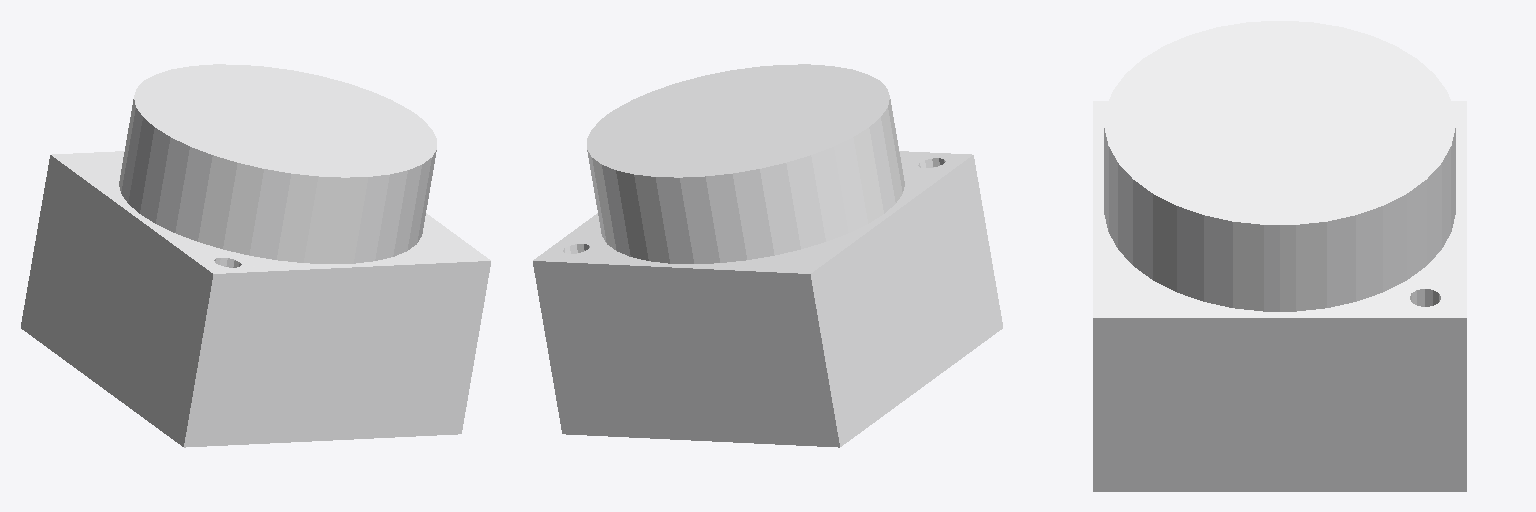
robot.urdf — roomba_final1:
<?xml version="1.0" encoding="utf-8"?>
<!-- This URDF was automatically created by SolidWorks to URDF Exporter! Originally created by [author] ([email redacted]) 
     Commit Version: 1.6.0-4-g7f85cfe  Build Version: 1.6.7995.38578
     For more information, please see http://wiki.ros.org/sw_urdf_exporter -->
<robot
  name="roomba_final1">
  <link
    name="base_link">
    <inertial>
      <origin
        xyz="0.00218120542640235 0.000338633491901637 0.109079961647412"
        rpy="0 0 0" />
      <mass
        value="0.556734338068349" />
      <inertia
        ixx="0.0036150957492384"
        ixy="9.51918549642332E-06"
        ixz="0.000373469425941911"
        iyy="0.00209869293547968"
        iyz="-2.14075951798952E-06"
        izz="0.00538227582872374" />
    </inertial>
    <visual>
      <origin
        xyz="0 0 0"
        rpy="0 0 0" />
      <geometry>
        <mesh
          filename="package://roomba_final1/meshes/base_link.STL" />
      </geometry>
      <material
        name="">
        <color
          rgba="0.792156862745098 0.819607843137255 0.933333333333333 1" />
      </material>
    </visual>
    <collision>
      <origin
        xyz="0 0 0"
        rpy="0 0 0" />
      <geometry>
        <mesh
          filename="package://roomba_final1/meshes/base_link.STL" />
      </geometry>
    </collision>
  </link>
  <link
    name="Rueda_izquierda_link">
    <inertial>
      <origin
        xyz="0 0 -0.0075"
        rpy="0 0 0" />
      <mass
        value="0.059894" />
      <inertia
        ixx="2.0903E-05"
        ixy="4.2352E-22"
        ixz="9.1754E-21"
        iyy="2.0903E-05"
        iyz="-1.2671E-20"
        izz="3.956E-05" />
    </inertial>
    <visual>
      <origin
        xyz="0 0 0"
        rpy="0 0 0" />
      <geometry>
        <mesh
          filename="package://roomba_final1/meshes/Rueda_izquierda_link.STL" />
      </geometry>
      <material
        name="">
        <color
          rgba="0.74902 0.74902 0.74902 1" />
      </material>
    </visual>
    <collision>
      <origin
        xyz="0 0 0"
        rpy="0 0 0" />
      <geometry>
        <mesh
          filename="package://roomba_final1/meshes/Rueda_izquierda_link.STL" />
      </geometry>
    </collision>
  </link>
  <joint
    name="rueda_izquierda_joint"
    type="continuous">
    <origin
      xyz="0.0067551 0.12199 0.020332"
      rpy="-1.5708 -1.4914 0" />
    <parent
      link="base_link" />
    <child
      link="Rueda_izquierda_link" />
    <axis
      xyz="0 0 1" />
    <limit
      effort="1000"
      velocity="1000" />
    <dynamics
      damping="0.1"
      friction="0.1" />
  </joint>
  <link
    name="Rueda_derecha_link">
    <inertial>
      <origin
        xyz="2.7756E-17 -2.7756E-17 0.0075"
        rpy="0 0 0" />
      <mass
        value="0.059894" />
      <inertia
        ixx="2.0903E-05"
        ixy="7.6014E-36"
        ixz="-1.9331E-20"
        iyy="2.0903E-05"
        iyz="-5.4394E-21"
        izz="3.956E-05" />
    </inertial>
    <visual>
      <origin
        xyz="0 0 0"
        rpy="0 0 0" />
      <geometry>
        <mesh
          filename="package://roomba_final1/meshes/Rueda_derecha_link.STL" />
      </geometry>
      <material
        name="">
        <color
          rgba="0.74902 0.74902 0.74902 1" />
      </material>
    </visual>
    <collision>
      <origin
        xyz="0 0 0"
        rpy="0 0 0" />
      <geometry>
        <mesh
          filename="package://roomba_final1/meshes/Rueda_derecha_link.STL" />
      </geometry>
    </collision>
  </link>
  <joint
    name="Rueda_derecha_joint"
    type="continuous">
    <origin
      xyz="0.0067551 -0.122 0.020332"
      rpy="-1.5708 0.18537 0" />
    <parent
      link="base_link" />
    <child
      link="Rueda_derecha_link" />
    <axis
      xyz="0 0 1" />
    <limit
      effort="1000"
      velocity="1000" />
    <dynamics
      damping="0.1"
      friction="0.1" />
  </joint>
  <link
    name="rueda_loca1_link">
    <inertial>
      <origin
        xyz="-2.5906E-06 1.5179E-18 -0.00030515"
        rpy="0 0 0" />
      <mass
        value="0.0042425" />
      <inertia
        ixx="1.9235E-07"
        ixy="8.603E-26"
        ixz="2.145E-10"
        iyy="1.9235E-07"
        iyz="7.8582E-24"
        izz="2.1762E-07" />
    </inertial>
    <visual>
      <origin
        xyz="0 0 0"
        rpy="0 0 0" />
      <geometry>
        <mesh
          filename="package://roomba_final1/meshes/rueda_loca1_link.STL" />
      </geometry>
      <material
        name="">
        <color
          rgba="0.74902 0.74902 0.74902 1" />
      </material>
    </visual>
    <collision>
      <origin
        xyz="0 0 0"
        rpy="0 0 0" />
      <geometry>
        <mesh
          filename="package://roomba_final1/meshes/rueda_loca1_link.STL" />
      </geometry>
    </collision>
  </link>
  <joint
    name="rueda_loca1_link"
    type="fixed">
    <origin
      xyz="-0.10848 2.2157E-05 0.015493"
      rpy="-0.020842 0.13825 0" />
    <parent
      link="base_link" />
    <child
      link="rueda_loca1_link" />
    <axis
      xyz="0 0 0" />
    <limit
      effort="1000"
      velocity="1000" />
    <dynamics
      damping="0.1"
      friction="0.1" />
  </joint>
  <link
    name="rueda_loca_link">
    <inertial>
      <origin
        xyz="0 2.0503E-13 -0.00030516"
        rpy="0 0 0" />
      <mass
        value="0.0042425" />
      <inertia
        ixx="1.9235E-07"
        ixy="-3.1019E-25"
        ixz="1.1357E-23"
        iyy="1.9235E-07"
        iyz="-1.6977E-17"
        izz="2.1762E-07" />
    </inertial>
    <visual>
      <origin
        xyz="0 0 0"
        rpy="0 0 0" />
      <geometry>
        <mesh
          filename="package://roomba_final1/meshes/rueda_loca_link.STL" />
      </geometry>
      <material
        name="">
        <color
          rgba="0.74902 0.74902 0.74902 1" />
      </material>
    </visual>
    <collision>
      <origin
        xyz="0 0 0"
        rpy="0 0 0" />
      <geometry>
        <mesh
          filename="package://roomba_final1/meshes/rueda_loca_link.STL" />
      </geometry>
    </collision>
  </link>
  <joint
    name="rueda_loca_joint"
    type="fixed">
    <origin
      xyz="0.12647 3.8976E-05 -0.028566"
      rpy="0.001491 0.18536 0.0080897" />
    <parent
      link="base_link" />
    <child
      link="rueda_loca_link" />
    <axis
      xyz="0 0 0" />
    <limit
      effort="100"
      velocity="100" />
    <dynamics
      damping="0.1"
      friction="0.1" />
  </joint>
  <link
    name="camara_link ">
    <inertial>
      <origin
        xyz="0.011556 8.1034E-06 -0.00013612"
        rpy="0 0 0" />
      <mass
        value="0.039891" />
      <inertia
        ixx="2.634E-05"
        ixy="-1.3124E-08"
        ixz="1.8203E-08"
        iyy="2.8501E-06"
        iyz="-4.272E-11"
        izz="2.5971E-05" />
    </inertial>
    <visual>
      <origin
        xyz="0 0 0"
        rpy="0 0 0" />
      <geometry>
        <mesh
          filename="package://roomba_final1/meshes/camara_link .STL" />
      </geometry>
      <material
        name="">
        <color
          rgba="0.79216 0.81961 0.93333 1" />
      </material>
    </visual>
    <collision>
      <origin
        xyz="0 0 0"
        rpy="0 0 0" />
      <geometry>
        <mesh
          filename="package://roomba_final1/meshes/camara_link .STL" />
      </geometry>
    </collision>
  </link>
  <joint
    name="camara_joint"
    type="fixed">
    <origin
      xyz="-0.022804 0.0010978 0.23648"
      rpy="0 0.18537 0" />
    <parent
      link="base_link" />
    <child
      link="camara_link " />
    <axis
      xyz="0 0 0" />
    <dynamics
      damping="0.1"
      friction="0.1" />
  </joint>
  <link
    name="lidar_link">
    <inertial>
      <origin
        xyz="4.1439E-07 -1.3901E-06 0.013915"
        rpy="0 0 0" />
      <mass
        value="0.03277" />
      <inertia
        ixx="5.3274E-06"
        ixy="5.6195E-08"
        ixz="-1.4962E-10"
        iyy="5.3275E-06"
        iyz="5.0497E-10"
        izz="6.0536E-06" />
    </inertial>
    <visual>
      <origin
        xyz="0 0 0"
        rpy="0 0 0" />
      <geometry>
        <mesh
          filename="package://roomba_final1/meshes/lidar_link.STL" />
      </geometry>
      <material
        name="">
        <color
          rgba="0.99608 0.99608 1 1" />
      </material>
    </visual>
    <collision>
      <origin
        xyz="0 0 0"
        rpy="0 0 0" />
      <geometry>
        <mesh
          filename="package://roomba_final1/meshes/lidar_link.STL" />
      </geometry>
    </collision>
  </link>
  <joint
    name="laser_link"
    type="fixed">
    <origin
      xyz="0.0049984 0.0021806 0.13411"
      rpy="0 0.18537 0" />
    <parent
      link="base_link" />
    <child
      link="lidar_link" />
    <axis
      xyz="0 0 0" />
    <dynamics
      damping="0.1"
      friction="0.1" />
  </joint>
</robot>

--- Render facts (derived) ---
The picture shows the robot from 3 angles, left to right: view 1: azimuth 30°, elevation 25°; view 2: azimuth 150°, elevation 25°; view 3: azimuth 270°, elevation 25°; orthographic projection.
Robot: roomba_final1 — 7 links, 6 joints (2 continuous, 4 fixed); root link base_link; default pose: all joints at 0.
Links seen in each view (by area): view 1: lidar_link; view 2: lidar_link; view 3: lidar_link.
Link boxes in pixels (<box>): lidar_link: <box>21,64,490,447</box>; lidar_link: <box>533,64,1002,447</box>; lidar_link: <box>1093,21,1466,491</box>.
Bounding box of the posed robot: 0.0389 × 0.035 × 0.0358 m (x, y, z).
Meshes: 7 distinct files referenced, 1 mesh visuals loaded (1 binary STL); not drawn: 6 (reference not matched to a file when rendering).